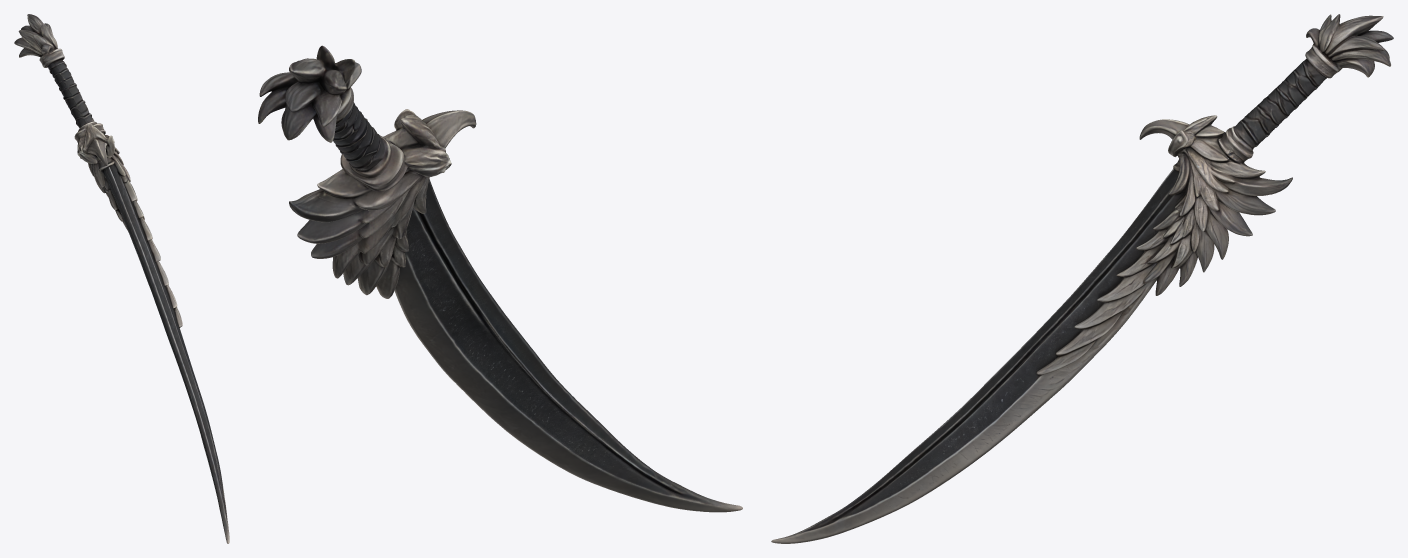
Rendered from Sword.glb.
The picture shows the model from 3 angles, left to right: view 1: azimuth 30°, elevation 25°; view 2: azimuth 150°, elevation 25°; view 3: azimuth 270°, elevation 25°; orthographic projection. The views are drawn at different scales.
Visible parts, largest first — view 1: model; view 2: model; view 3: model.
Part boxes in pixels (x1=…): model: x1=14, y1=14, x2=229, y2=543; model: x1=258, y1=45, x2=742, y2=512; model: x1=771, y1=14, x2=1393, y2=543.
Bounding box in the file's own units: 0.2772 × 1.81 × 1.9.
1 material, 1 textured.
